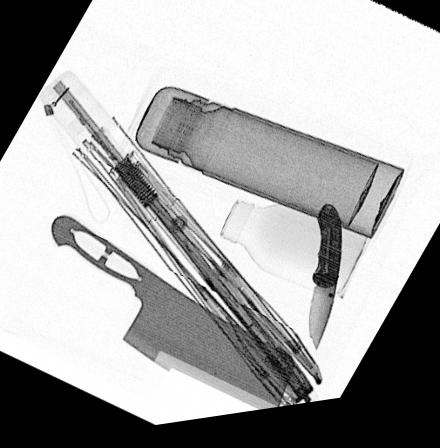Knife: (51, 217, 294, 418), (308, 212, 342, 362)
